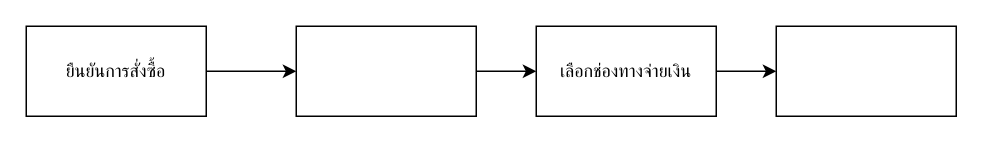
Image size: 983x143. Some labels were removed from this diagram. The shapes that lost their labels are listed below. From the top down, each one's centre as x and y in pixels, then its label:
At point (385, 70): "เข้าไปตะกร้าสินค้า".
At point (865, 70): "กดสั่งซื้อ".
